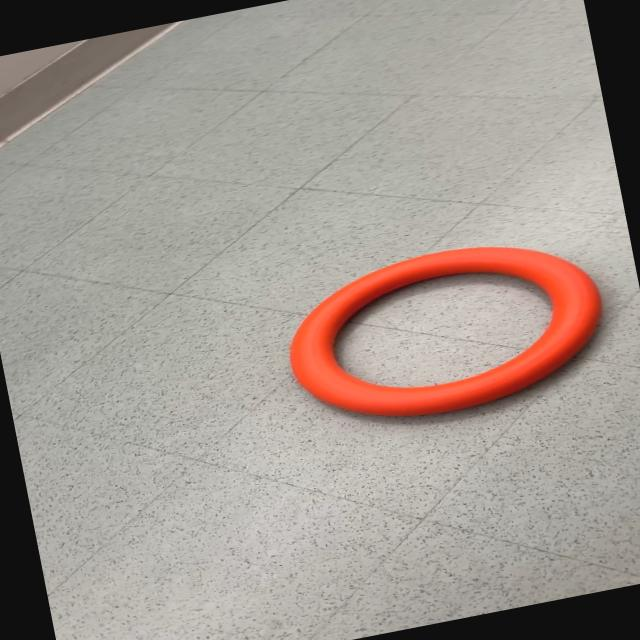note: (273, 222, 618, 442)
